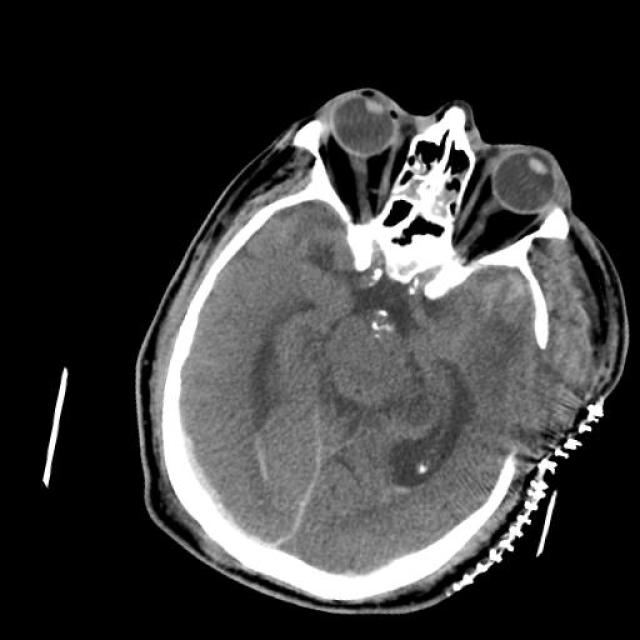Intraventricular: (130, 409, 280, 575), (220, 380, 304, 494)
Subdural: (258, 408, 364, 581)
